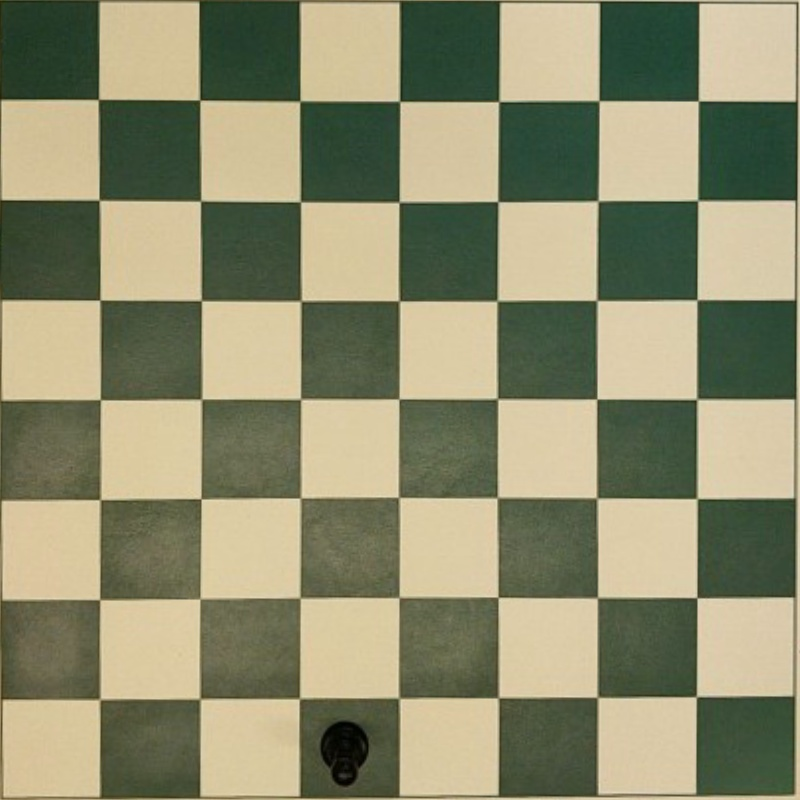black-pawn: (319, 720, 370, 787)
